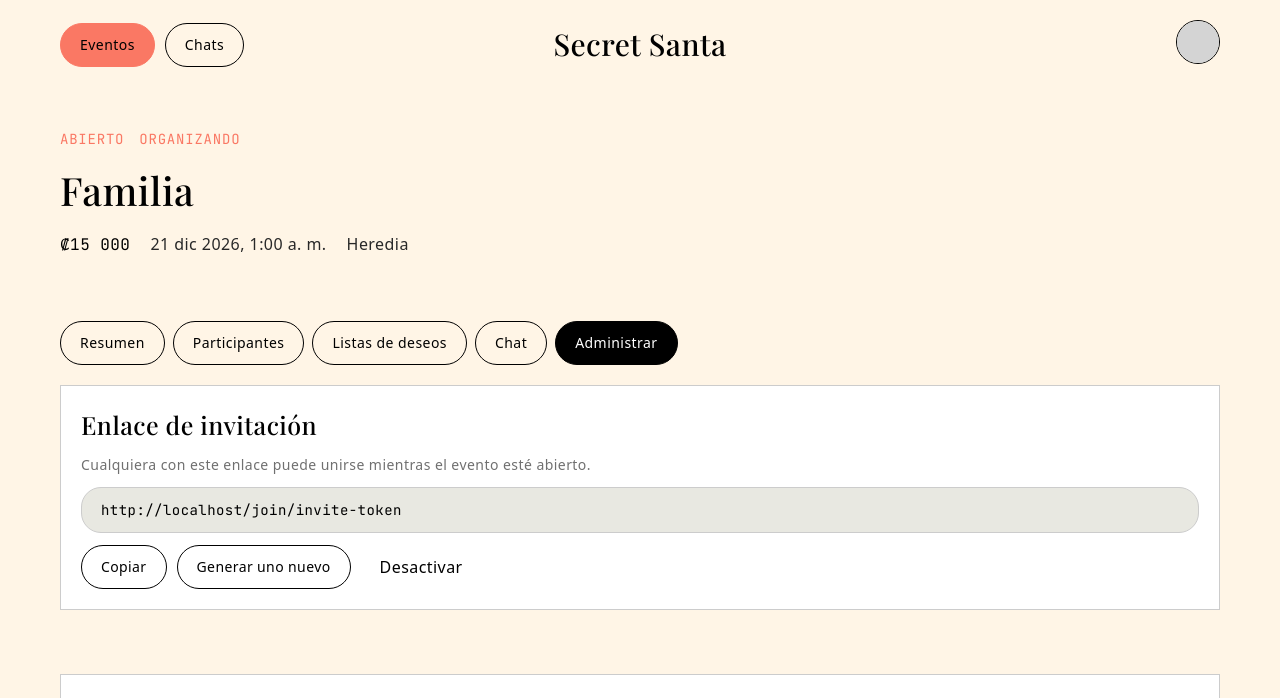
Test: InviteLinkCard › Copy writes the URL to the clipboard and toasts
The width and height of the screenshot is (1280, 698).
Click the button "Copiar" at x=124, y=567, box [81,545,166,589]
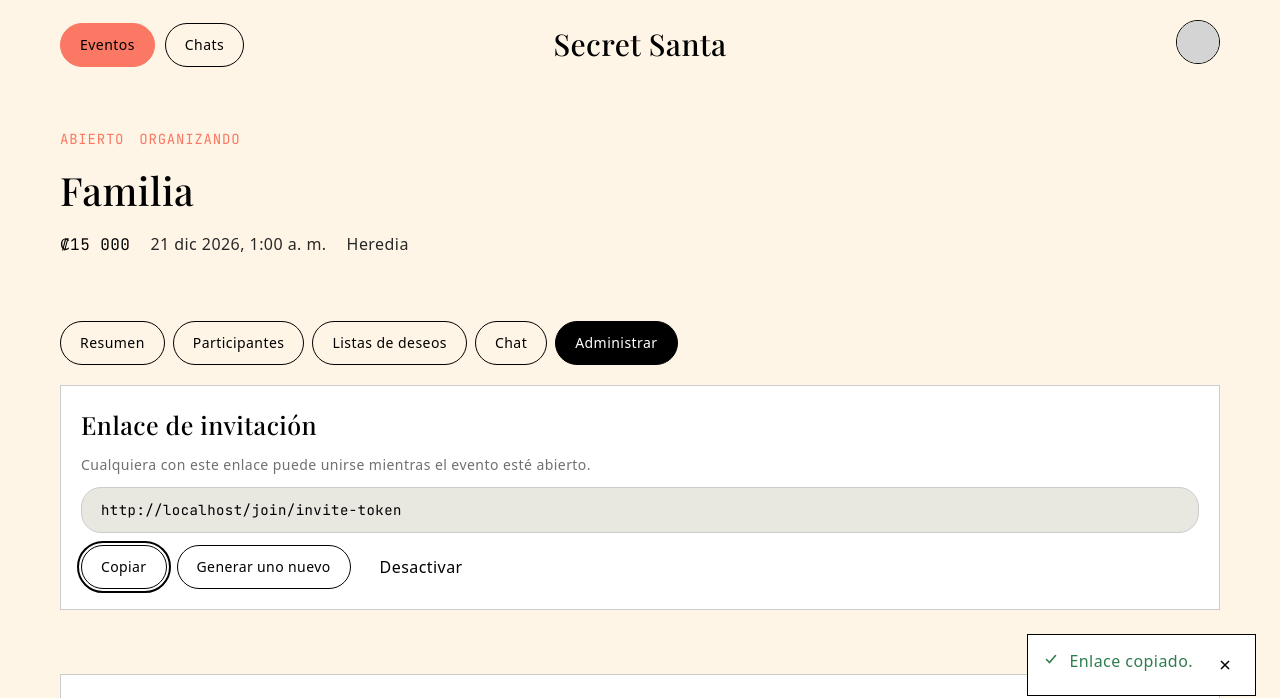
Check: the text "Enlace copiado." is shown, box [1069,649,1193,673]
